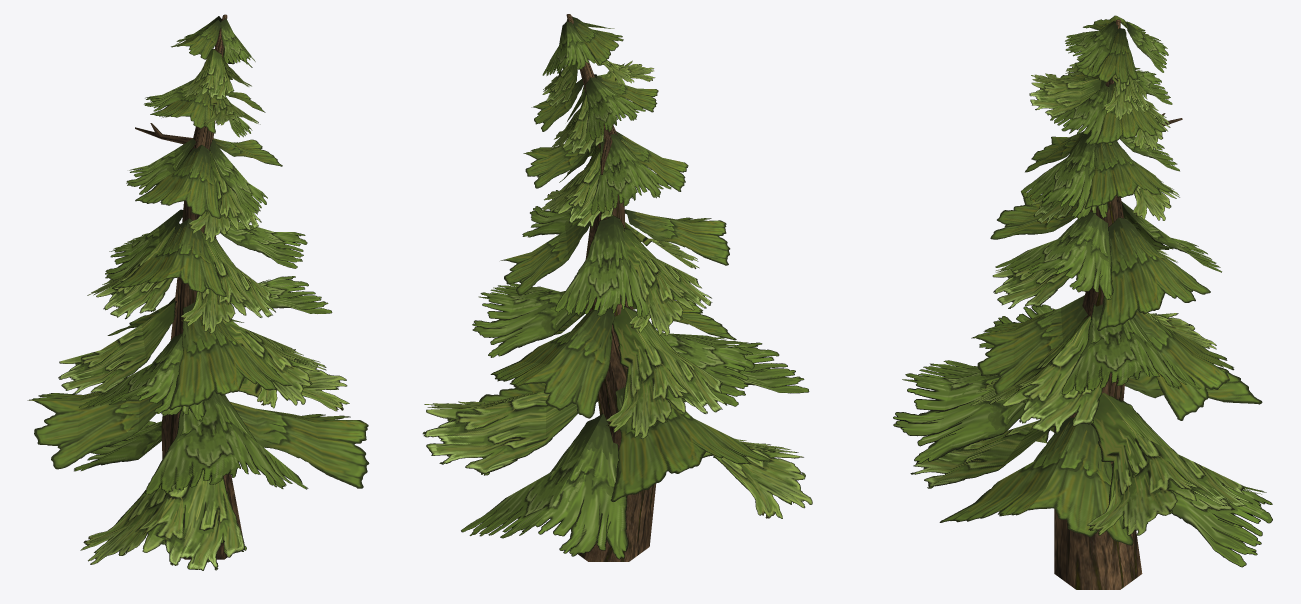
Rendered from VEG0210008.fbx.
3 views of the same model, side by side, from view 1: azimuth 30°, elevation 25°; view 2: azimuth 150°, elevation 25°; view 3: azimuth 270°, elevation 25° (orthographic). The views are drawn at different scales.
Visible parts, largest first — view 1: smVEG0210008; view 2: smVEG0210008; view 3: smVEG0210008.
Boxes of the visible parts, x1,y1,x2,y2 form: smVEG0210008: [27, 14, 369, 570]; smVEG0210008: [422, 14, 812, 561]; smVEG0210008: [893, 15, 1272, 589].
Bounding box in the file's own units: 535 × 731 × 493.
Materials: 2 (2 with a texture image).
